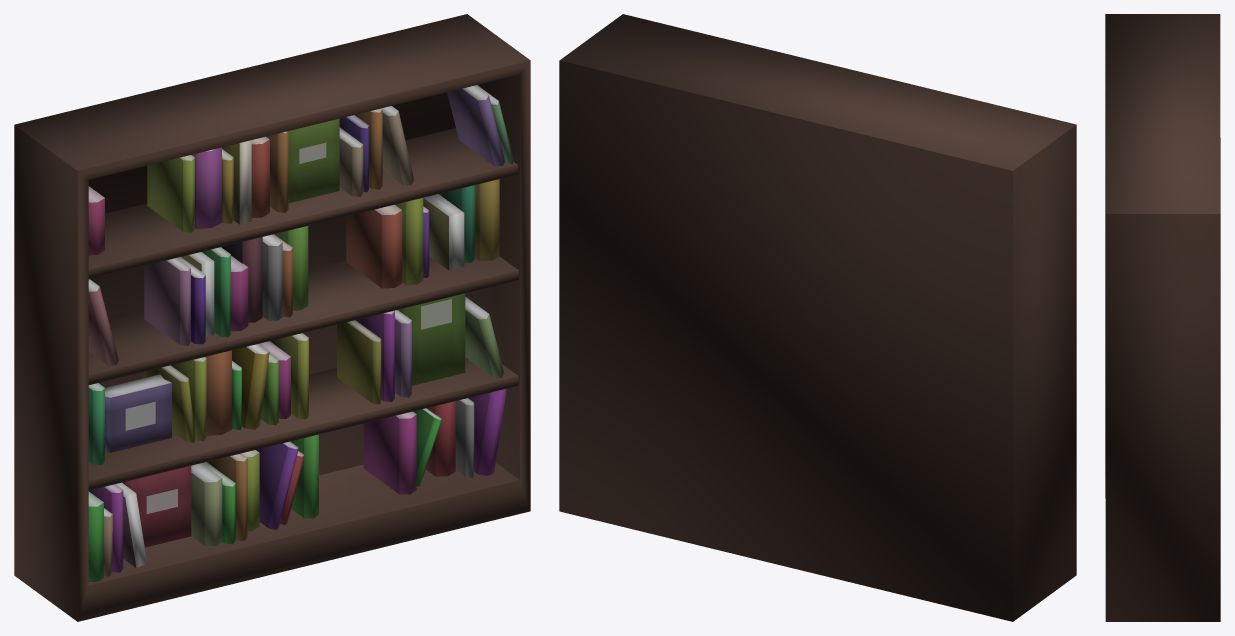
The picture shows the model from 3 angles, left to right: view 1: azimuth 30°, elevation 25°; view 2: azimuth 150°, elevation 25°; view 3: azimuth 270°, elevation 25°; orthographic projection. The views are drawn at different scales.
Visible parts, largest first — view 1: alt37; view 2: alt37; view 3: alt37.
Boxes of the visible parts, x1,y1,x2,y2 form: alt37: (14,14,530,621); alt37: (559,14,1076,621); alt37: (1105,14,1220,621).
Bounding box in the file's own units: 0.5 × 0.4752 × 0.1216.
